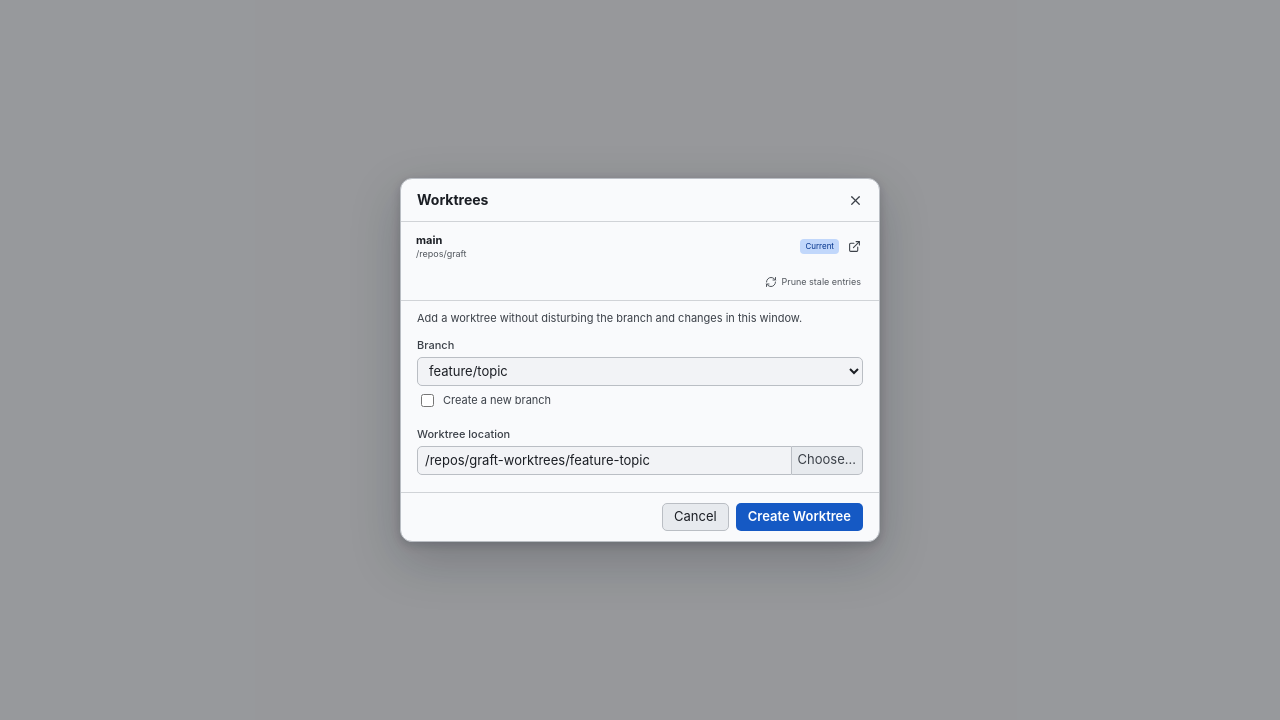
Scenario: WorktreeDialog › starts on an unused branch and keeps the suggested path in sync
The image size is (1280, 720).
Check: the field named "Worktree location" holds "/repos/graft-worktrees/feature-topic", box [417,446,792,475]
Step 1. Select "review" in the dropdown named "Worktree branch" → (640, 371), box [417,357,863,386]
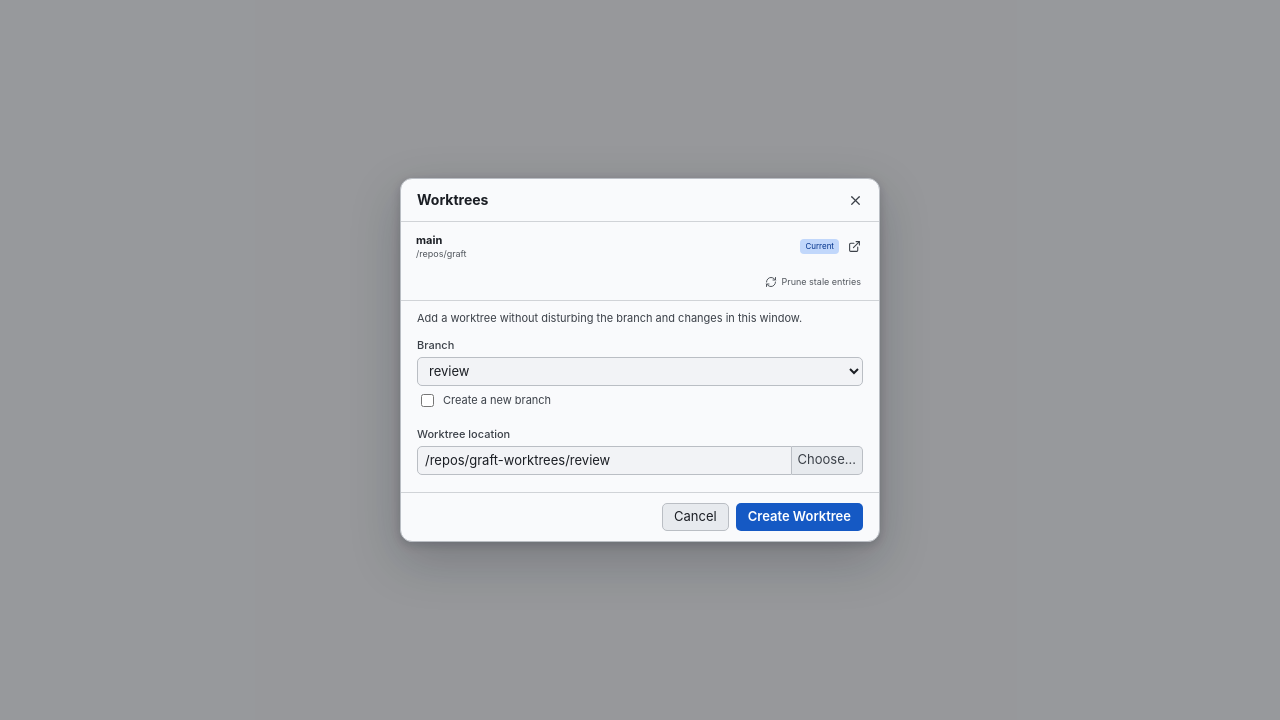
Check: the field named "Worktree location" holds "/repos/graft-worktrees/review", box [417,446,792,475]
